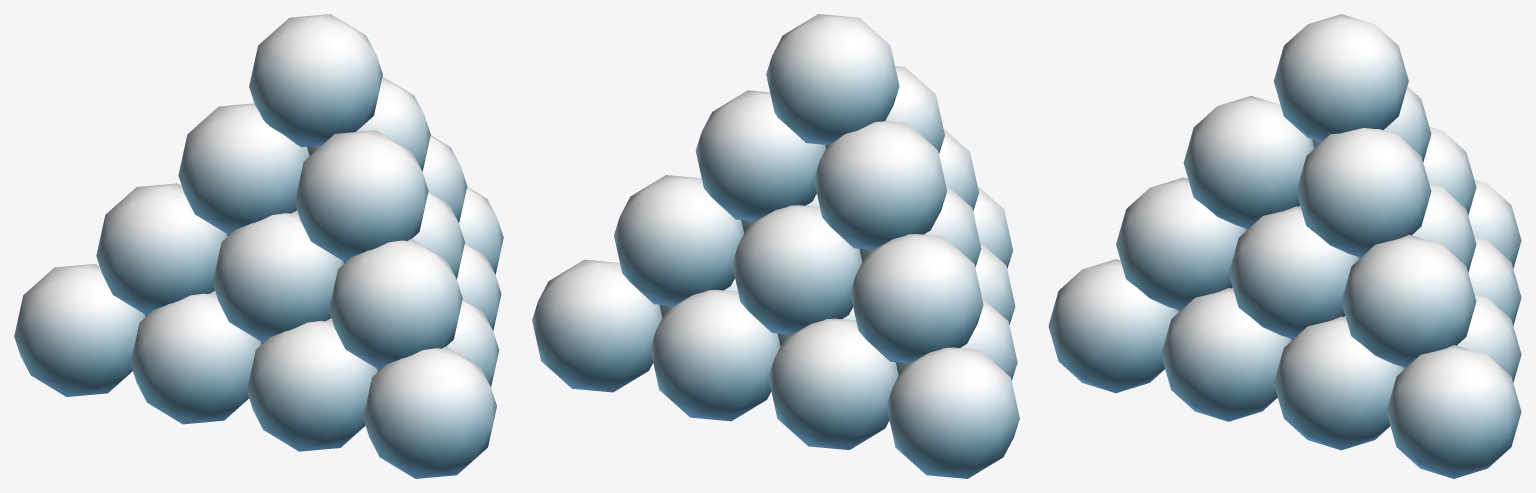
The model's file is snowball_pile.glb.
3 renders of one model, left to right at view 1: azimuth 30°, elevation 25°; view 2: azimuth 150°, elevation 25°; view 3: azimuth 270°, elevation 25°, orthographic.
Visible parts, largest first — view 1: snowball_pile; view 2: snowball_pile; view 3: snowball_pile.
Part boxes in pixels (x1=…): snowball_pile: x1=14, y1=14, x2=503, y2=478; snowball_pile: x1=532, y1=14, x2=1019, y2=478; snowball_pile: x1=1048, y1=14, x2=1521, y2=478.
Size of the model in its own units: 1.19 by 0.9 by 1.05.
Materials: 1 (1 with a texture image).
